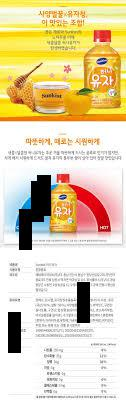honeyyuja: (82, 30, 121, 106), (48, 173, 76, 239)
